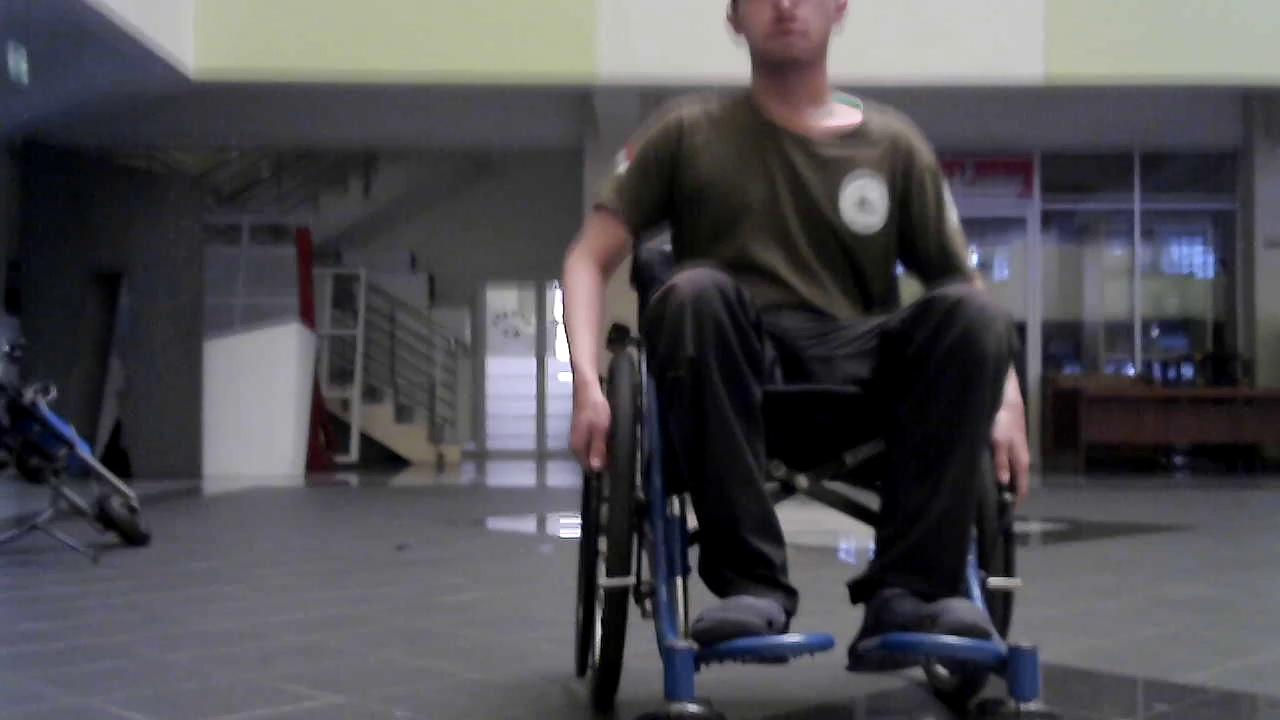person: (560, 2, 1035, 709)
wheelchair: (545, 203, 1076, 720)
